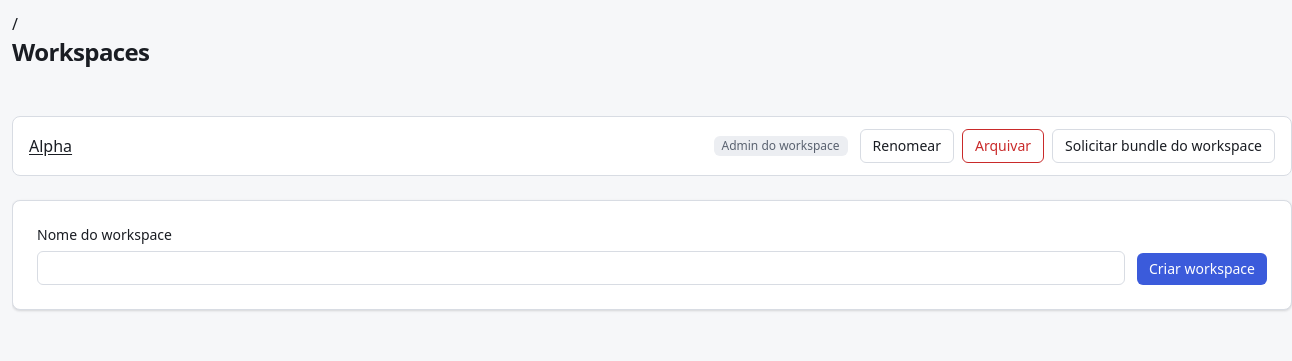
WorkspaceListPage (NAV-01, NAV-06..08, NAV-13..23) › rename: a 403/404 shows a failure message and keeps the previous value (NAV-16)
This screenshot has width=1292, height=361.
Expected: the link "Alpha" is shown, left=29, top=135, right=72, bottom=157
Click the button "Renomear" at point(907, 146), box left=860, top=129, right=954, bottom=163
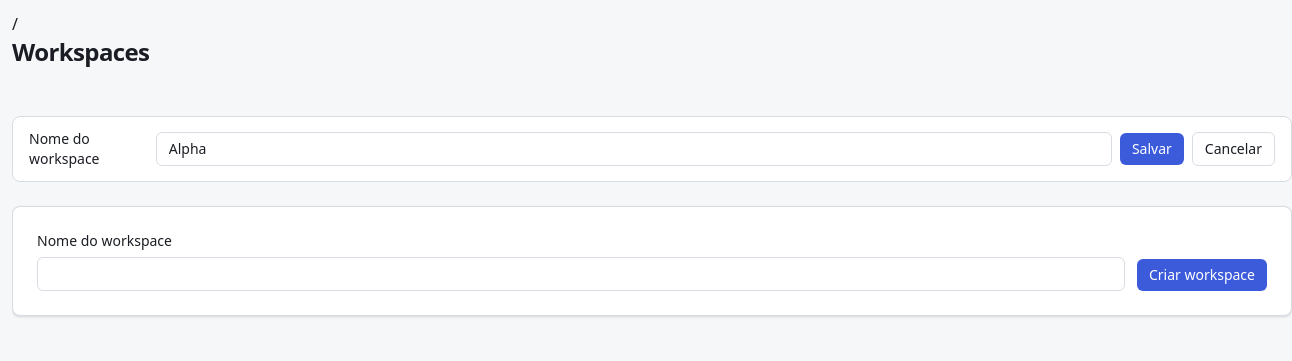
Replace the text in the 1st field labelled "Nome do workspace" with "Alpha 2" at point(634, 149), box left=156, top=132, right=1112, bottom=166
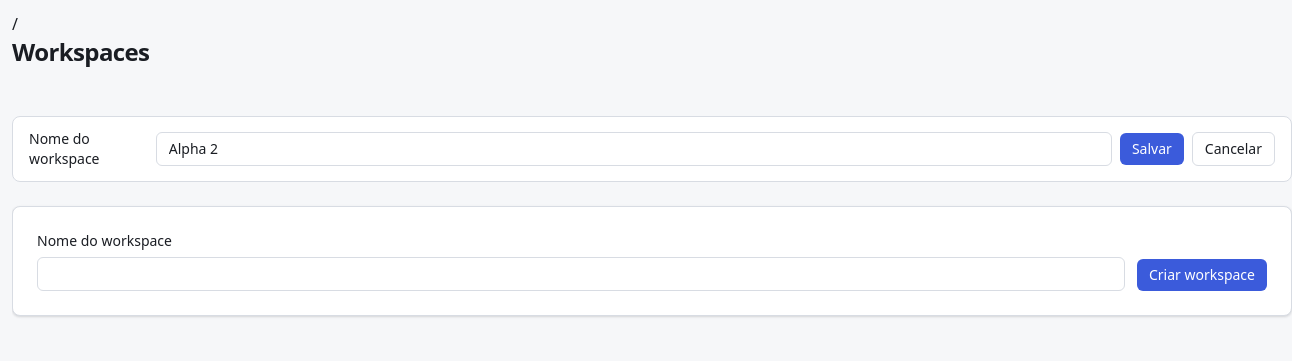
Click the button "Salvar" at point(1152, 149), box left=1120, top=133, right=1184, bottom=165
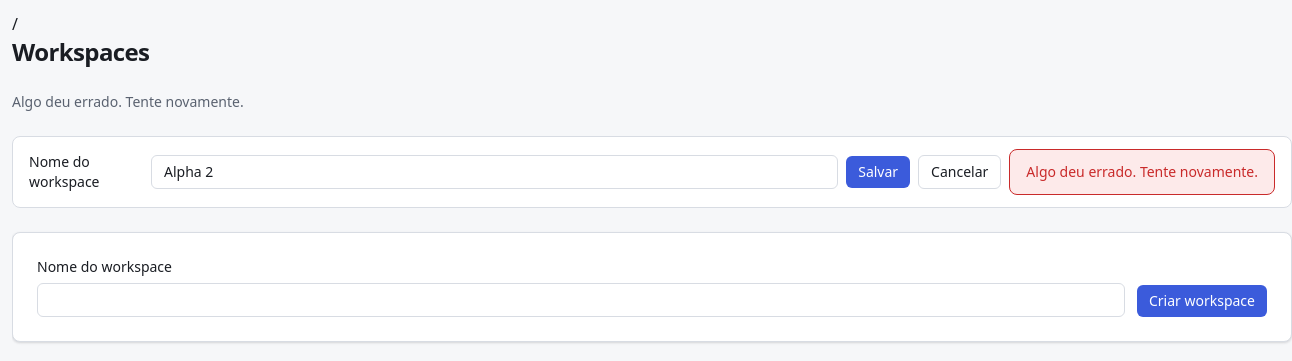
Expected: the 2nd text "Algo deu errado. Tente novamente." is shown, left=1009, top=149, right=1275, bottom=195
Click the button "Cancelar" at point(960, 172), box left=918, top=155, right=1001, bottom=189
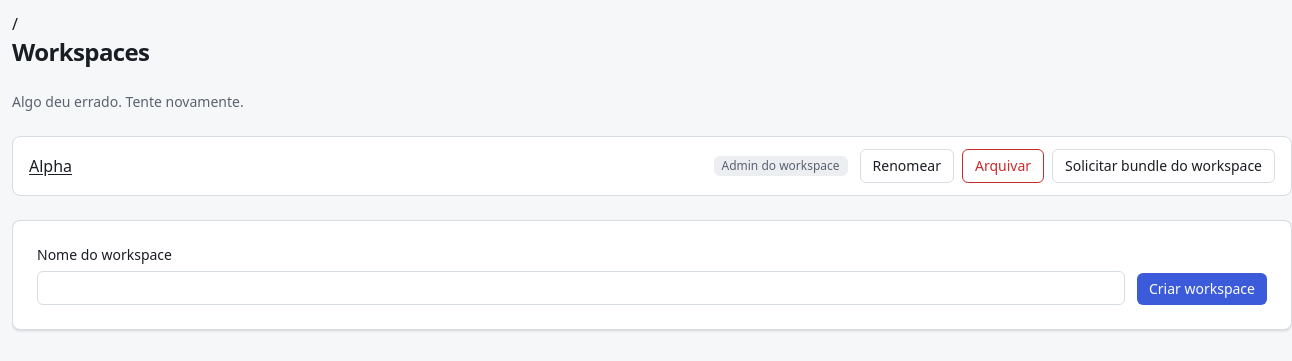
Expected: the link "Alpha" is shown, left=29, top=155, right=72, bottom=177
